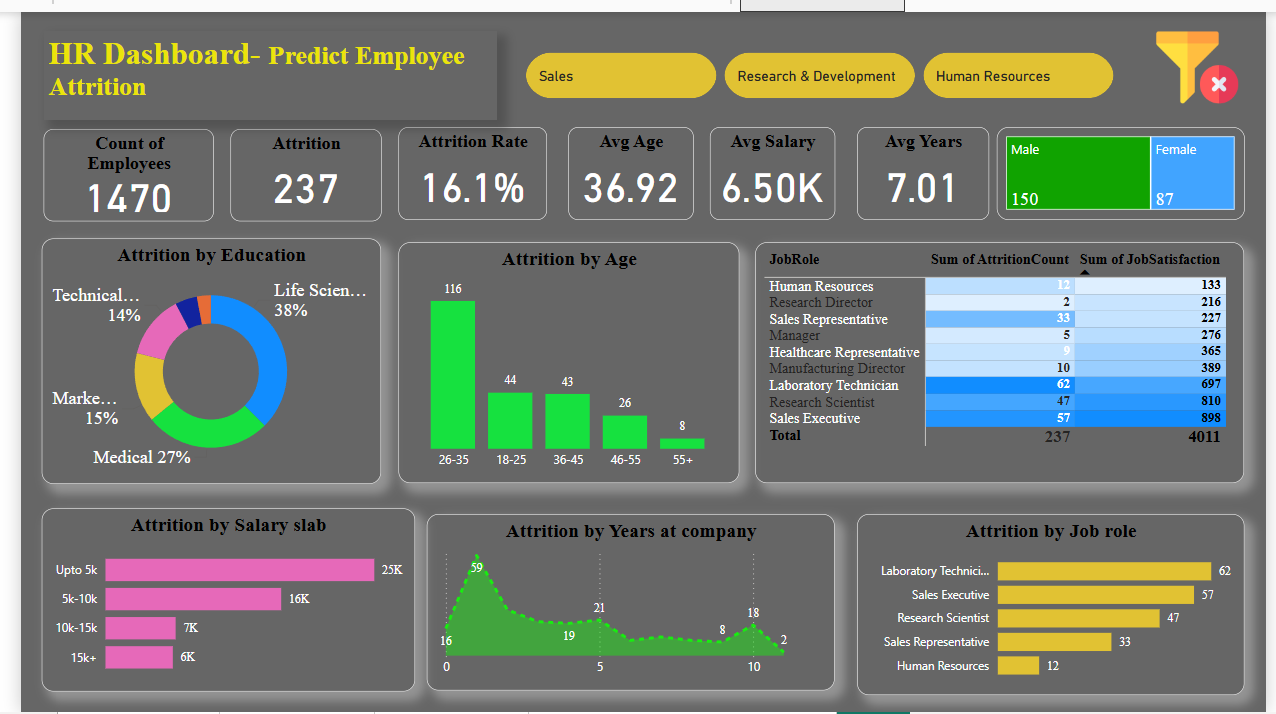

What the dashboard file says about the page in this screenshot:
{"tool":"powerbi","page":{"name":"Report 1","canvas":[1280,720],"ordinal":0},"visuals":[{"type":"card","title":"Count of Employees","fields":{"Values":["Sum(HR_Analytics.EmployeeCount)"]},"box":[22.5,120,175,95],"z":0},{"type":"card","title":"Attrition","fields":{"Values":["Sum(HR_Analytics.AttritionCount)"]},"box":[215,120,155,95],"z":1000},{"type":"card","title":"Attrition Rate","fields":{"Values":["HR_Analytics.AttritionRate"]},"box":[388.1,119,152.4,95.2],"z":2000},{"type":"card","title":"Avg Age ","fields":{"Values":["Avg(HR_Analytics.Age)"]},"box":[561.9,119,128.6,95.2],"z":3000},{"type":"card","title":"Avg Salary ","fields":{"Values":["Avg(HR_Analytics.MonthlyIncome)"]},"box":[707.1,119,128.6,95.2],"z":4000},{"type":"card","title":"Avg Years ","fields":{"Values":["Avg(HR_Analytics.YearsAtCompany)"]},"box":[859.5,119,135.7,95.2],"z":5000},{"type":"donutChart","title":"Attrition by Education","fields":{"Y":["Sum(HR_Analytics.AttritionCount)"],"Category":["HR_Analytics.EducationField"]},"box":[21.9,232.3,348.4,252],"z":6000},{"type":"columnChart","title":"Attrition by Age","fields":{"Category":["HR_Analytics.AgeGroup"],"Y":["Sum(HR_Analytics.AttritionCount)"]},"box":[388.1,235.7,350,247.6],"z":7000},{"type":"pivotTable","fields":{"Rows":["HR_Analytics.JobRole"],"Values":["Sum(HR_Analytics.AttritionCount)","Sum(HR_Analytics.JobSatisfaction)"]},"box":[754.8,235.7,502.4,247.6],"z":8000},{"type":"barChart","title":"Attrition by Salary slab","fields":{"Category":["HR_Analytics.SalarySlab"],"Y":["Sum(HR_Analytics.Age)"]},"box":[21.4,509.5,383.3,188.1],"z":9000},{"type":"barChart","title":"Attrition by Job role","fields":{"Category":["HR_Analytics.JobRole"],"Y":["Sum(HR_Analytics.AttritionCount)"]},"box":[859.5,516.7,397.6,185.7],"z":10000},{"type":"areaChart","title":"Attrition by Years at company","fields":{"Category":["HR_Analytics.YearsAtCompany"],"Y":["Sum(HR_Analytics.AttritionCount)"]},"box":[416.7,516.7,419,181],"z":11000},{"type":"treemap","title":"Attrition by Salary slab","fields":{"Group":["HR_Analytics.Gender"],"Values":["Sum(HR_Analytics.AttritionCount)"]},"box":[1002.4,119,254.8,95.2],"z":12000},{"type":"advancedSlicerVisual","fields":{"Values":["HR_Analytics.Department"]},"box":[514.4,37.3,616.3,57.2],"z":13000},{"type":"textbox","box":[22.4,20.2,466.2,91.9],"z":14000},{"type":"image","box":[1161,0,94.1,114.3],"z":15000}]}

Visuals, with their boxes in screenshot pixels (x1, y1, x2, y2), scaled from the page's 1280x720 canvas onto the 1276x714 screenshot:
"Count of Employees" card: 22,119,197,213
"Attrition" card: 214,119,369,213
"Attrition Rate" card: 387,118,539,212
"Avg Age " card: 560,118,688,212
"Avg Salary " card: 705,118,833,212
"Avg Years " card: 857,118,992,212
"Attrition by Education" donutChart: 22,230,369,480
"Attrition by Age" columnChart: 387,234,736,479
pivotTable - HR_Analytics.JobRole x Sum(HR_Analytics.AttritionCount): 752,234,1253,479
"Attrition by Salary slab" barChart: 21,505,403,692
"Attrition by Job role" barChart: 857,512,1253,697
"Attrition by Years at company" areaChart: 415,512,833,692
"Attrition by Salary slab" treemap: 999,118,1253,212
advancedSlicerVisual - HR_Analytics.Department: 513,37,1127,94
textbox: 22,20,487,111
image: 1157,0,1251,113
